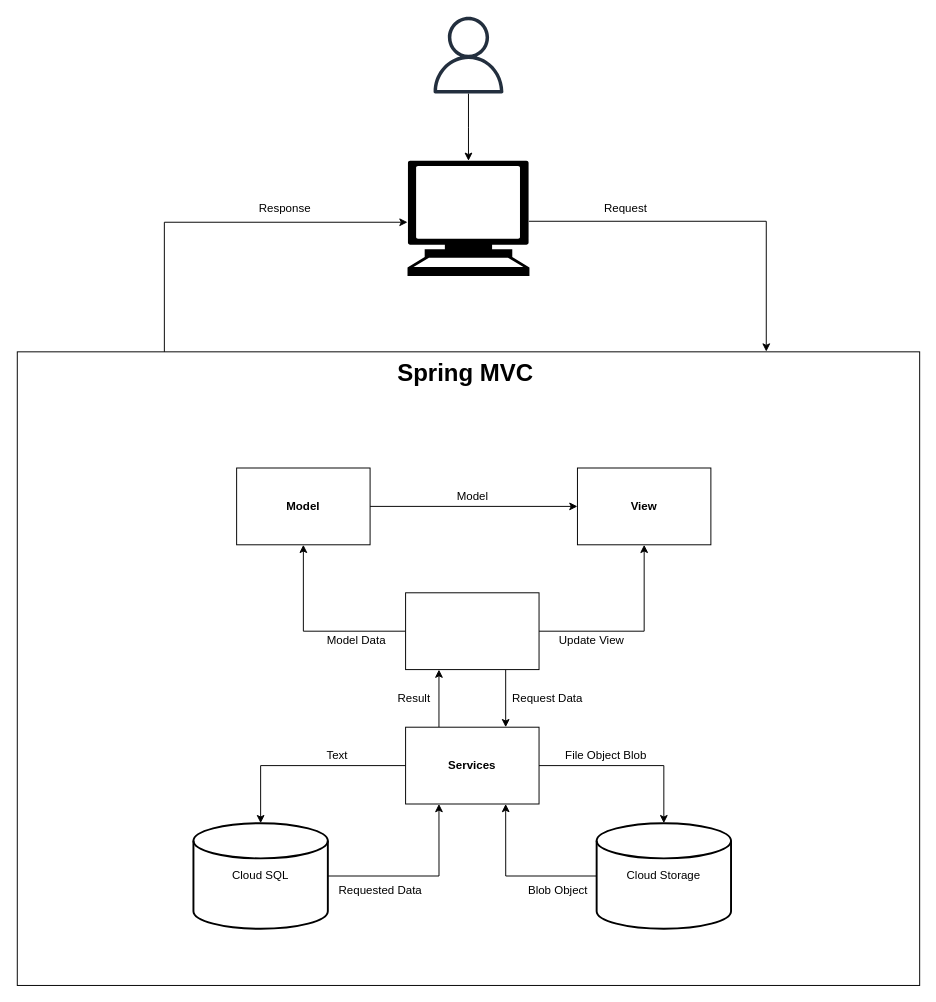
The diagram is 936 pixels wide and 1002 high, and some of its shapes have lost their labels. Each missing label, with the centre of its shape:
"Controller" belongs at pixel 472 631.
"Web Application" belongs at pixel 468 218.
